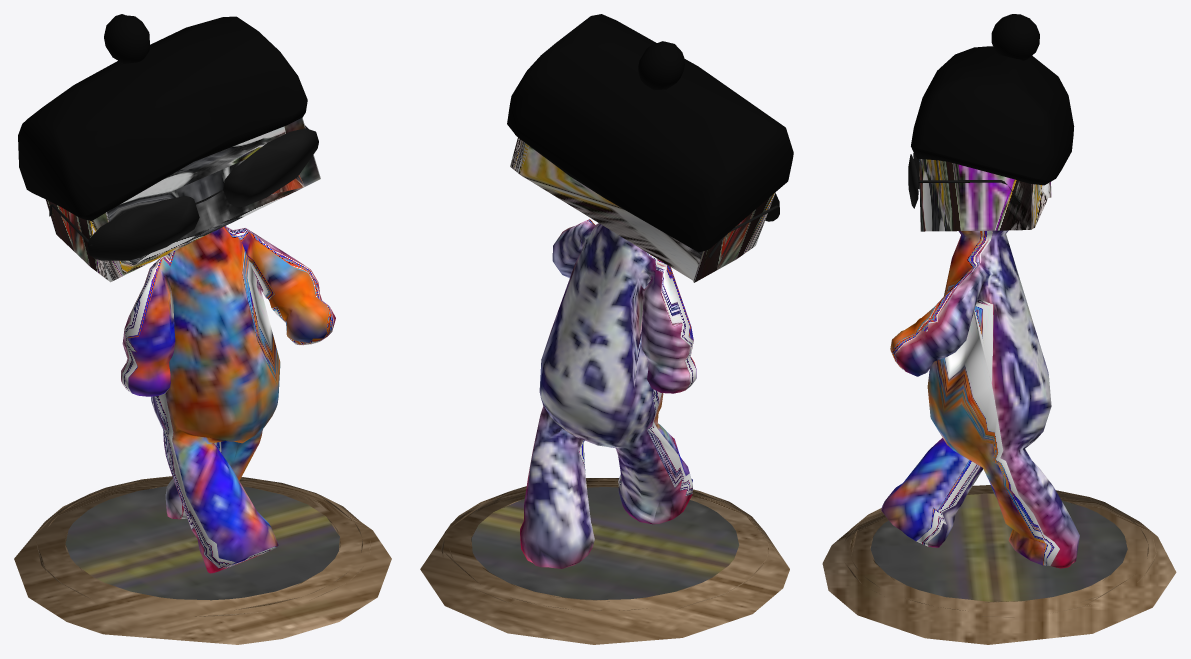
3 renders of one model, left to right at view 1: azimuth 30°, elevation 25°; view 2: azimuth 150°, elevation 25°; view 3: azimuth 270°, elevation 25°, orthographic. The views are drawn at different scales.
Bounding box in the file's own units: 1.45 × 2.36 × 1.44.
6 materials, 4 textured.
